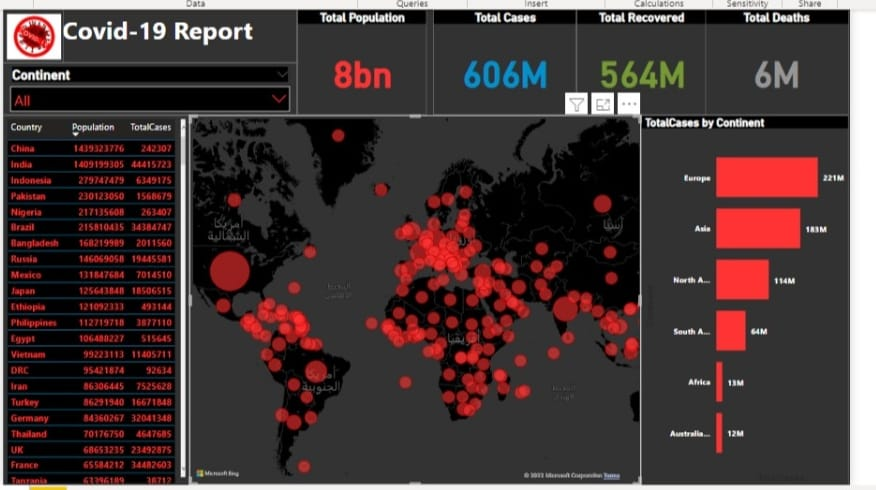

Layout of this report page (visuals, bound fields, positions):
{"tool":"powerbi","page":{"name":"Page 1","canvas":[1280,720],"ordinal":0},"visuals":[{"type":"map","fields":{"Category":["Covid-19.Country,Other"],"Size":["Sum(Covid-19.TotalCases)"]},"box":[282.2,159.6,683.7,561],"z":0},{"type":"tableEx","fields":{"Values":["Covid-19.Country,Other","Sum(Covid-19.Population)","Sum(Covid-19.TotalCases)"]},"box":[0,159.6,282.2,561],"z":1},{"type":"clusteredBarChart","fields":{"Category":["Covid-19.Continent","Covid-19.Country,Other"],"Y":["Sum(Covid-19.TotalCases)"]},"box":[965.9,159.6,314.1,561],"z":2},{"type":"textbox","box":[0,0,445,80.8],"z":4},{"type":"image","box":[0,0,92.1,80.8],"z":5},{"type":"slicer","fields":{"Values":["Covid-19.Continent"]},"box":[0,80.6,445.1,79],"z":6},{"type":"card","title":"Total Cases","fields":{"Values":["Sum(Covid-19.TotalCases)"]},"box":[650.6,0,216.9,160.2],"z":7},{"type":"card","title":"Total Population","fields":{"Values":["Sum(Covid-19.Population)"]},"box":[445,0,195.6,160.2],"z":8},{"type":"card","title":"Total Deaths","fields":{"Values":["Sum(Covid-19.TotalDeaths)"]},"box":[1058.7,0,221.1,160.2],"z":9},{"type":"card","title":"Total Recovered","fields":{"Values":["Sum(Covid-19.TotalRecovered)"]},"box":[867.4,0,195.6,160.2],"z":10}]}

Visuals, with their boxes in screenshot pixels (x1, y1, x2, y2):
map - Covid-19.Country,Other x Sum(Covid-19.TotalCases): l=180, t=114, r=640, b=489
tableEx - Covid-19.Country,Other x Sum(Covid-19.Population): l=0, t=114, r=180, b=489
clusteredBarChart - Covid-19.Continent x Covid-19.Country,Other: l=640, t=114, r=851, b=489
textbox: l=0, t=7, r=290, b=61
image: l=0, t=7, r=53, b=61
slicer - Covid-19.Continent: l=0, t=61, r=290, b=114
"Total Cases" card: l=428, t=7, r=574, b=114
"Total Population" card: l=290, t=7, r=421, b=114
"Total Deaths" card: l=702, t=7, r=851, b=114
"Total Recovered" card: l=574, t=7, r=705, b=114
